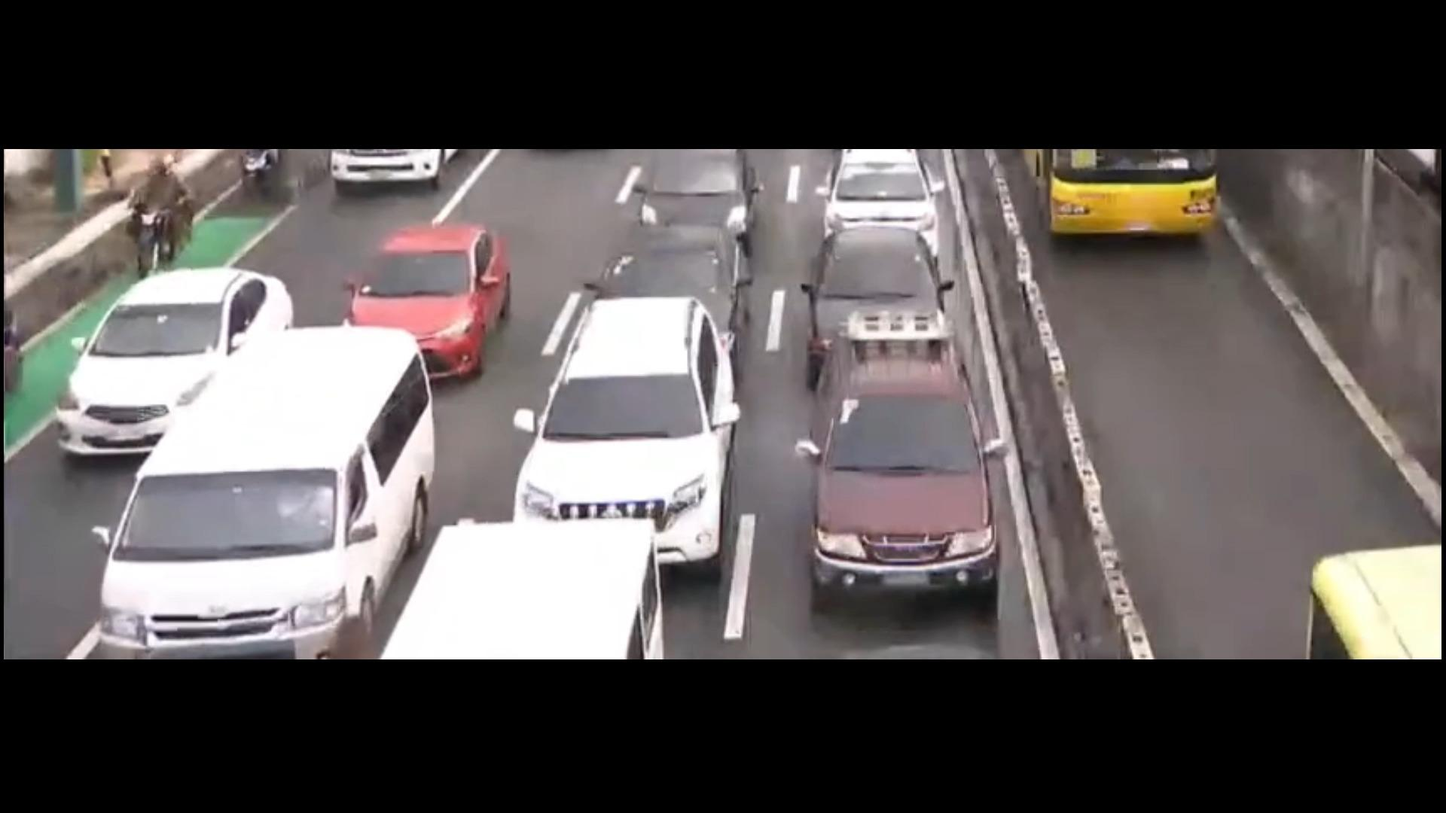Motorcycle: (125, 152, 191, 283)
SUV: (523, 298, 738, 583), (798, 324, 1003, 600)
Sedan: (54, 267, 295, 464), (331, 223, 512, 387), (800, 223, 952, 381), (581, 232, 746, 357), (621, 146, 761, 241), (824, 144, 949, 250)
Van: (89, 327, 429, 657)
